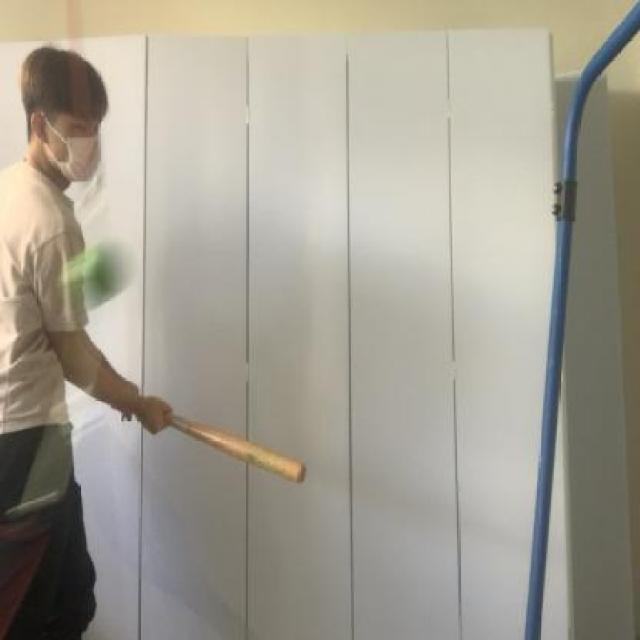baseball: (58, 234, 136, 321)
